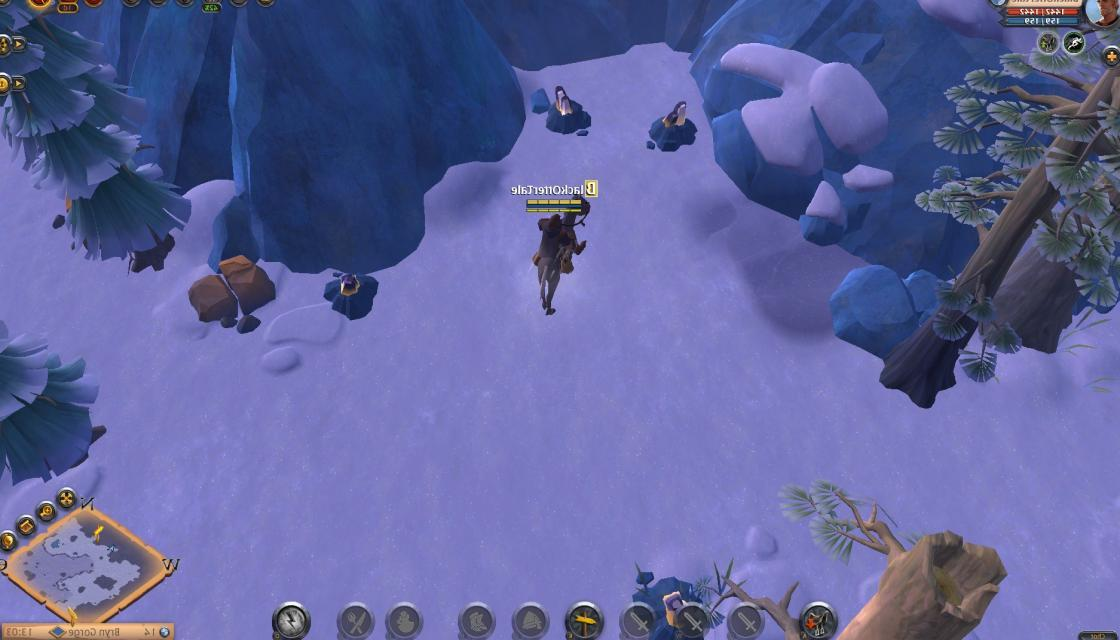copperore: (636, 574, 710, 640), (642, 96, 700, 152), (323, 264, 382, 319), (543, 84, 594, 134)
limestone: (188, 254, 280, 326)
